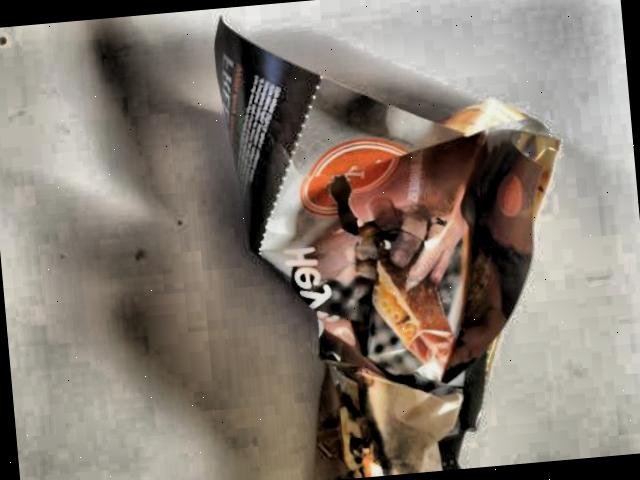Paper: (184, 0, 593, 480)
